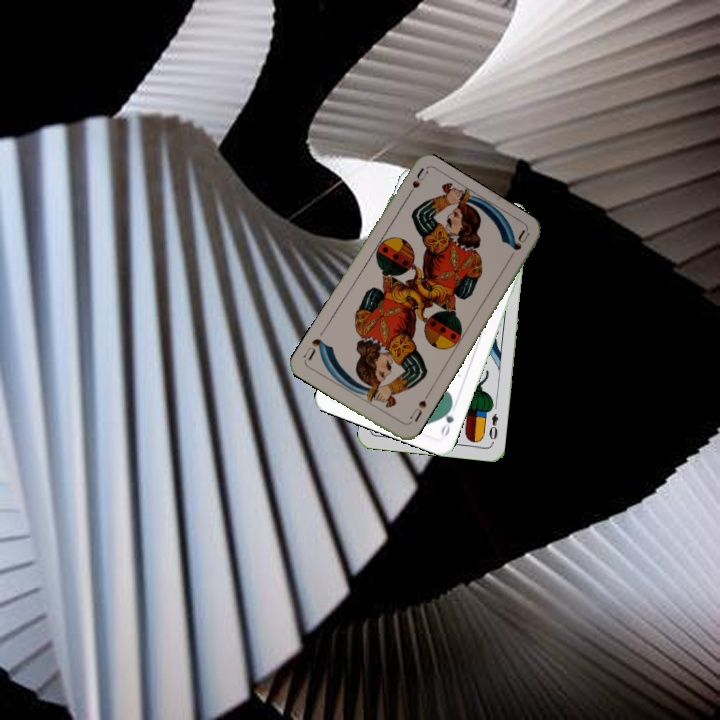EO: (485, 410, 501, 446)
GO: (437, 400, 456, 439)
SU: (401, 165, 430, 203), (403, 391, 431, 427)
